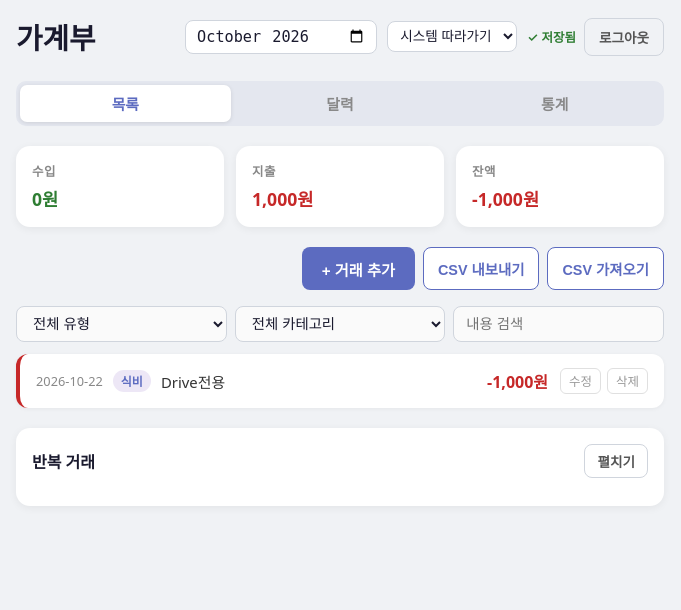
(v) 로그아웃 후 Drive 데이터가 localStorage에 남지 않는다
The image size is (681, 610).
expect the text "Drive전용" is shown: met, box x1=161 y1=370 x2=225 y2=392
Click the button "로그아웃" at (624, 36), box x1=584 y1=18 x2=664 y2=56
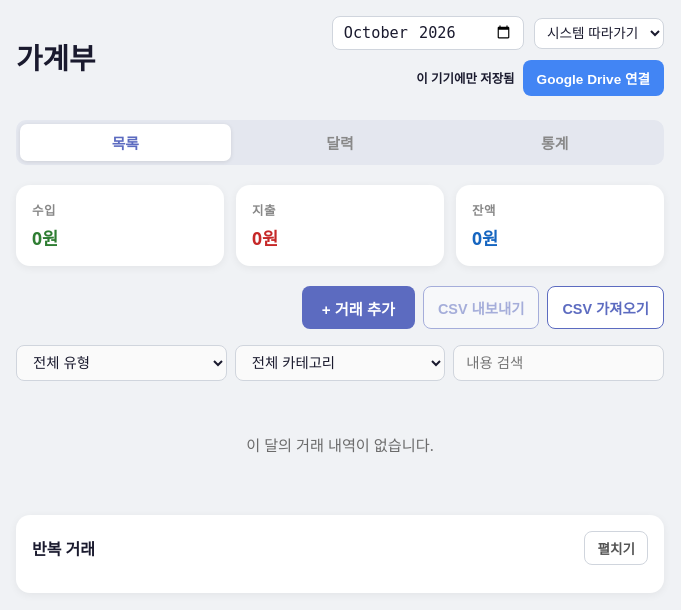
expect the text "Drive전용" is gone: met
expect the text "이 기기에만 저장됨" is shown: met, box x1=416 y1=69 x2=515 y2=87
